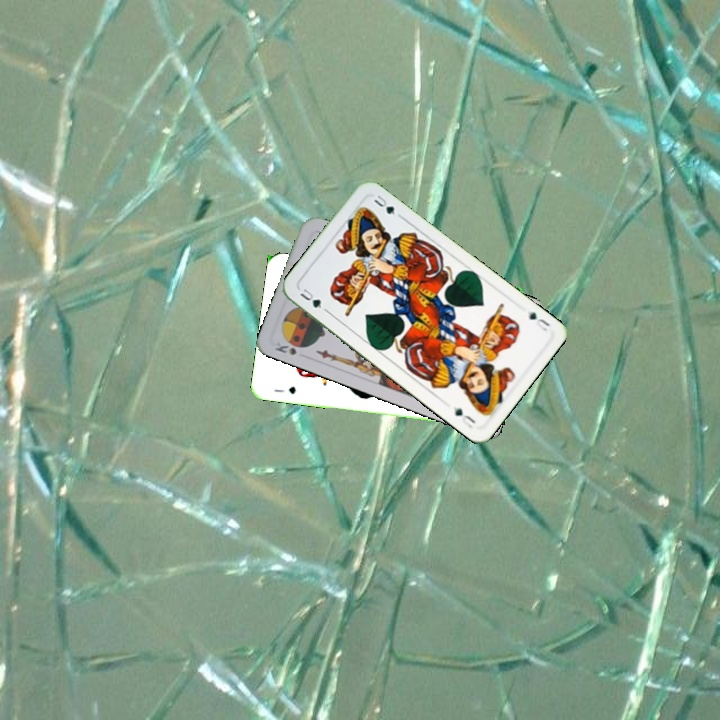GU: (296, 284, 330, 314), (523, 307, 553, 334), (270, 382, 298, 397)
SK: (271, 338, 299, 358)
